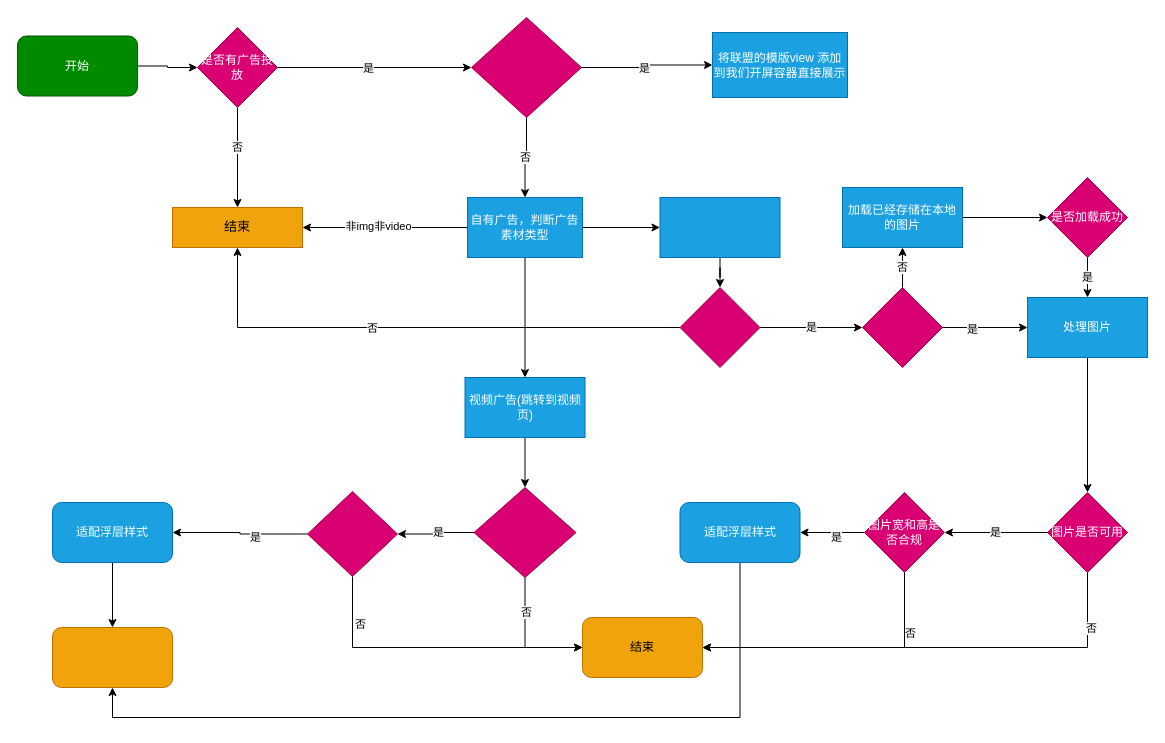
The diagram is 1165 pixels wide and 743 high, and some of its shapes have lost their labels. The centre of each missing label's shape, as x and y in pixels:
内存中是否有bitmap: (902,327)
图文广告: (719,227)
展示开屏广告: (112,657)
广告素材路径是否存在: (719,327)
是否为三方广告: (526,67)
视频是否能正常播放: (352,533)
视频格式是否支持: (524,532)
